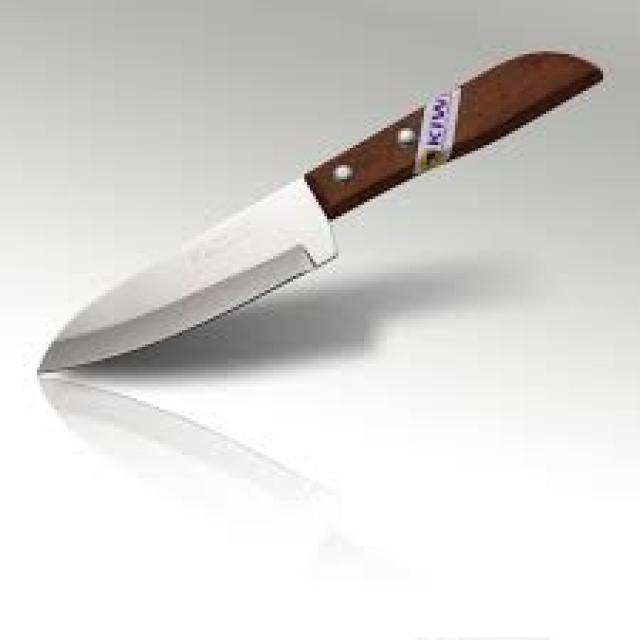knife: (37, 51, 604, 377)
